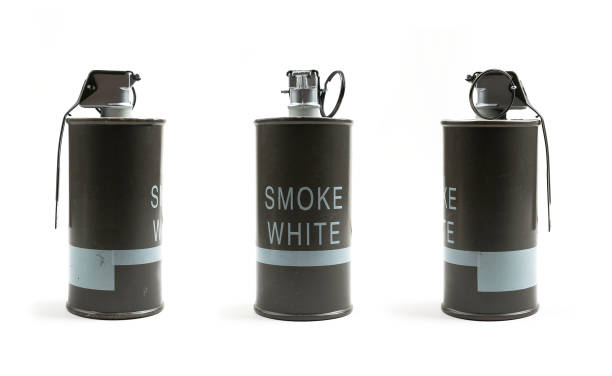e1: (437, 67, 556, 325), (53, 68, 171, 321), (245, 67, 355, 321)
